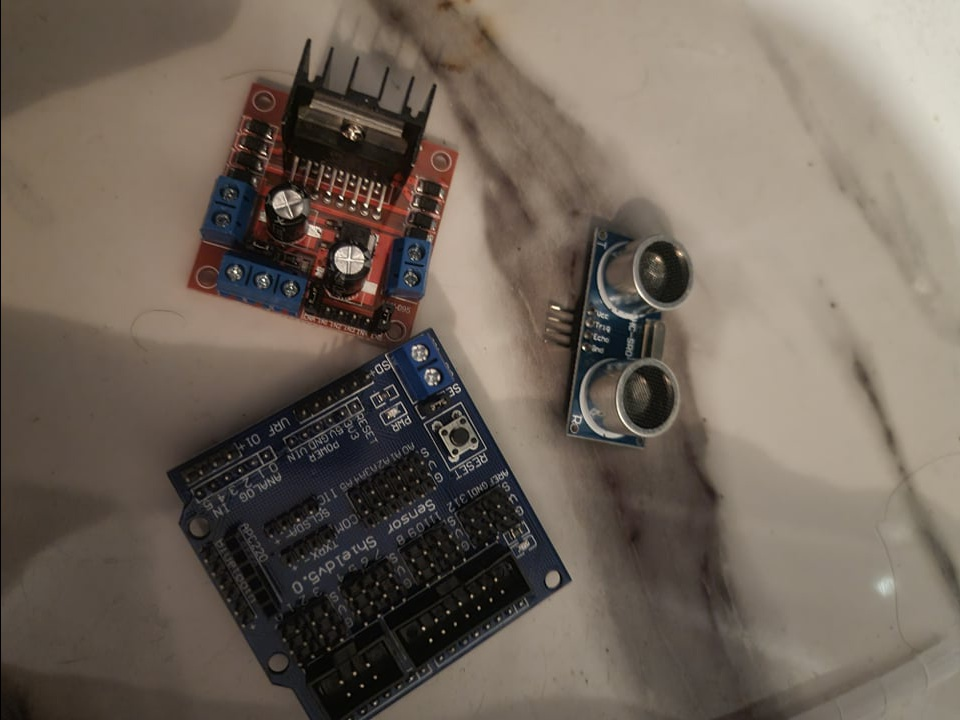5V EXPANSION: (164, 326, 570, 718)
MOTOR: (185, 41, 459, 348)
SENSOR: (550, 222, 695, 449)
